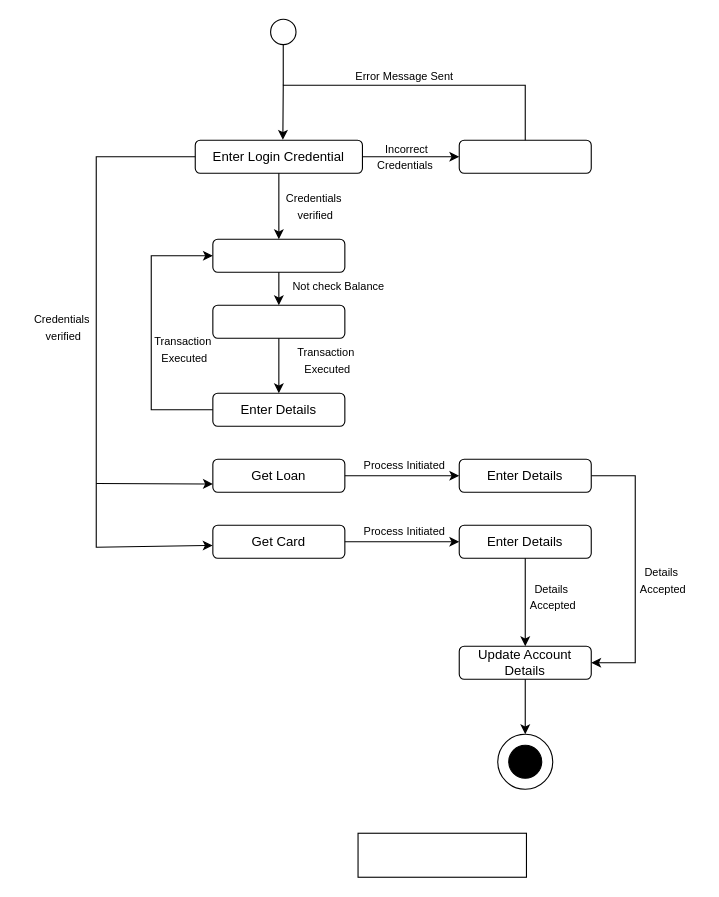
This 719x897 diagram has some shape labels left out. Each missing label, with the box of its shape:
Account Details: (212, 238, 345, 272)
Display Error: (458, 139, 591, 173)
Initiate Transaction: (212, 304, 345, 338)
State Diagram: (357, 832, 526, 877)
